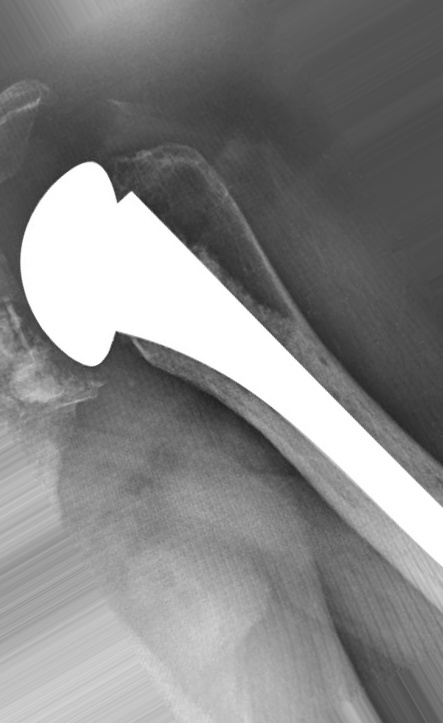Shoulder - Anotomyhead - Stryker: (13, 146, 152, 375)
Shoulder - Anotomytail - Stryker: (72, 190, 307, 399)
